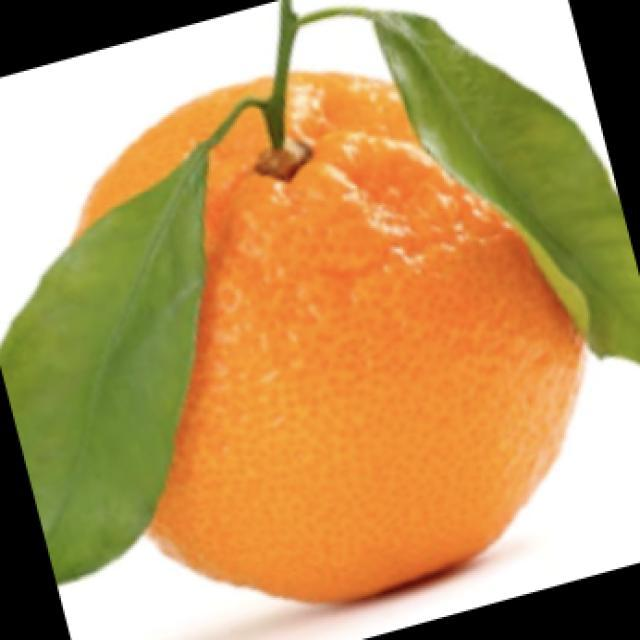Orange: (71, 71, 587, 604)
